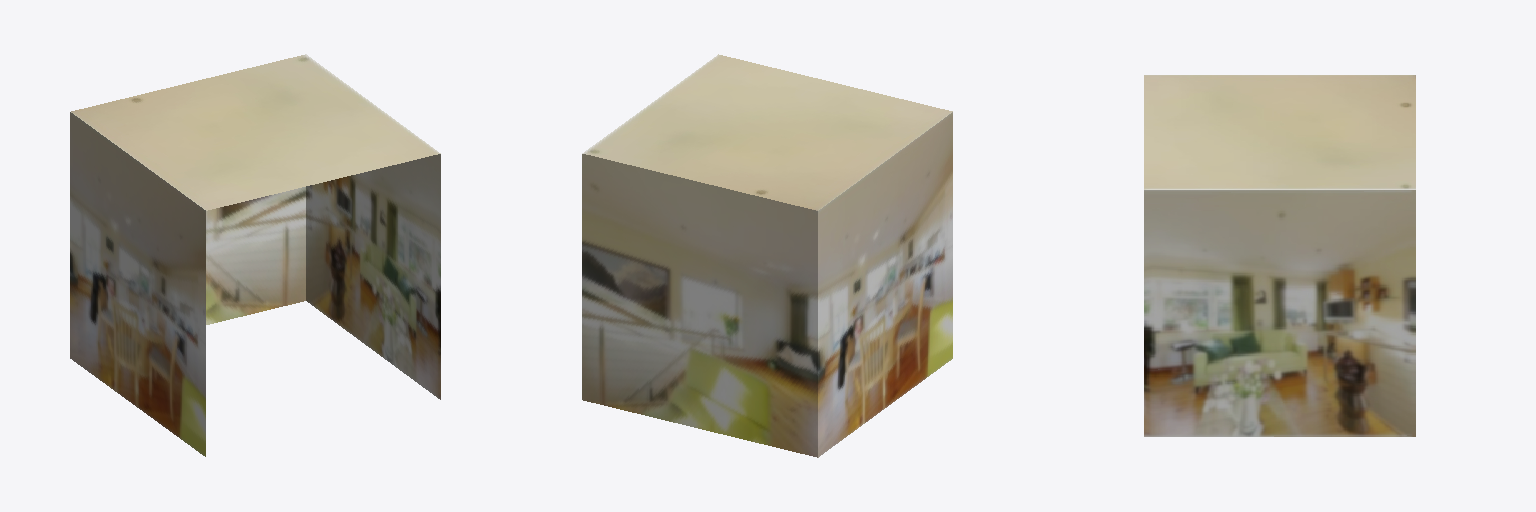
3 views of the same model, side by side, from view 1: azimuth 30°, elevation 25°; view 2: azimuth 150°, elevation 25°; view 3: azimuth 270°, elevation 25° (orthographic).
Parts seen in each view (by area): view 1: Walls:pPlane4; view 2: Walls:pPlane4; view 3: Walls:pPlane4.
Part boxes in pixels (x1,y1,x2,y2): Walls:pPlane4: (70, 54, 440, 456); Walls:pPlane4: (582, 54, 952, 457); Walls:pPlane4: (1144, 75, 1415, 436).
Size of the model in its own units: 294 by 294 by 293.
Materials: 1 (1 with a texture image).